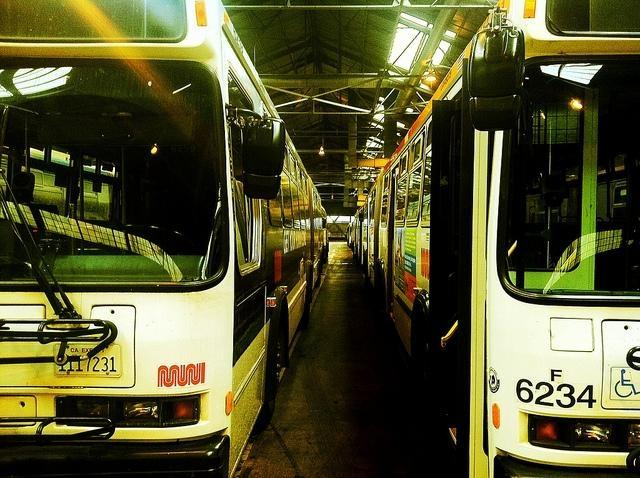bus: (2, 2, 337, 470), (379, 3, 640, 470)
